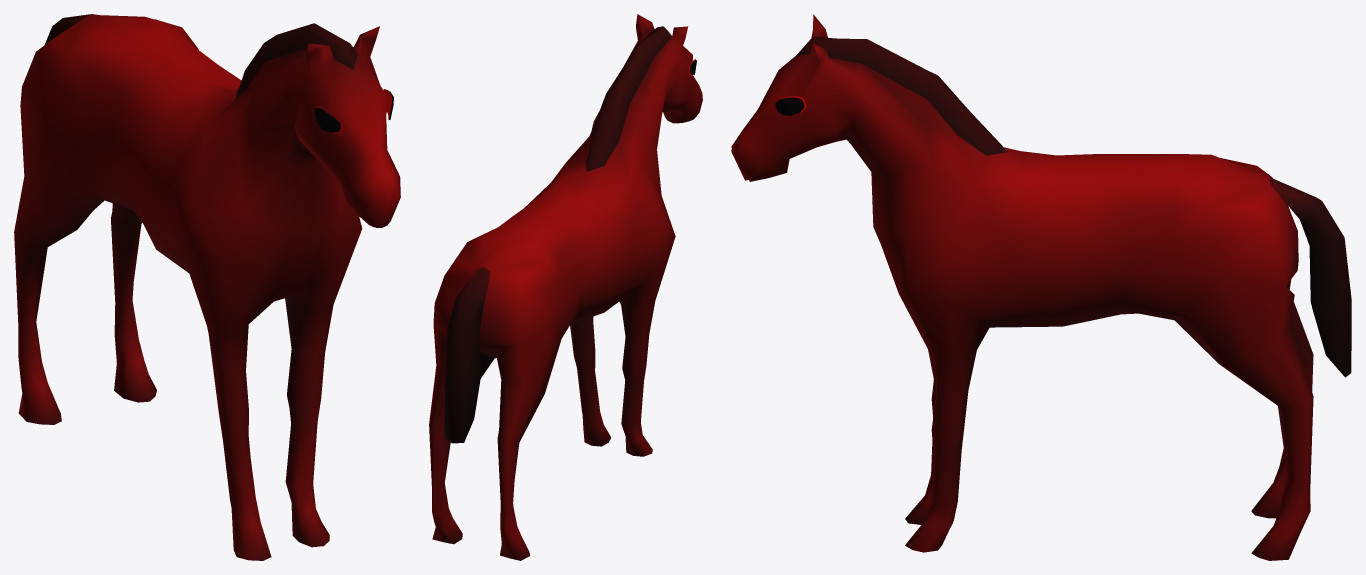
Rendered from Animals_ChestnutHorse.fbx.
3 views of the same model, side by side, from view 1: azimuth 30°, elevation 25°; view 2: azimuth 150°, elevation 25°; view 3: azimuth 270°, elevation 25° (orthographic). The views are drawn at different scales.
Visible parts, largest first — view 1: base; view 2: base; view 3: base.
Part boxes in pixels (<box>): base: <box>14,14,400,560</box>; base: <box>429,14,702,560</box>; base: <box>731,14,1351,560</box>.
Bounding box in the file's own units: 56.05 × 191 × 214.
